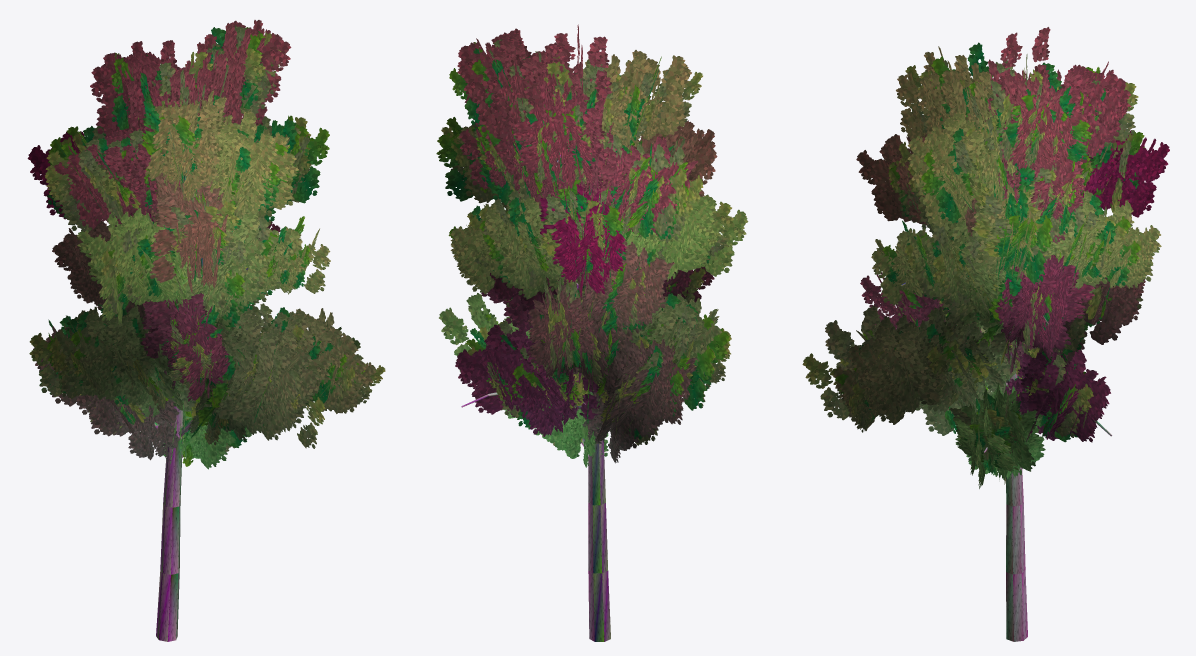
Rendered from nat_birch_b_LOD0.glb.
The picture shows the model from 3 angles, left to right: view 1: azimuth 30°, elevation 25°; view 2: azimuth 150°, elevation 25°; view 3: azimuth 270°, elevation 25°; orthographic projection. The views are drawn at different scales.
Visible parts, largest first — view 1: nat_birch_b_LOD0; view 2: nat_birch_b_LOD0; view 3: nat_birch_b_LOD0.
Boxes of the visible parts, box(x1,y1,x2,y2) form: nat_birch_b_LOD0: box(27, 20, 385, 641); nat_birch_b_LOD0: box(436, 24, 748, 641); nat_birch_b_LOD0: box(802, 27, 1169, 641).
Size of the model in its own units: 3.98 by 7.06 by 4.06.
Materials: 2 (2 with a texture image).
